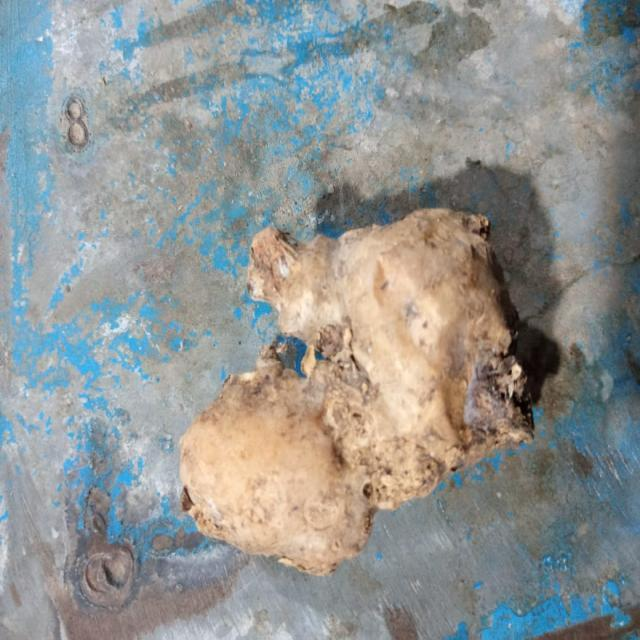ginger: (187, 215, 532, 566)
